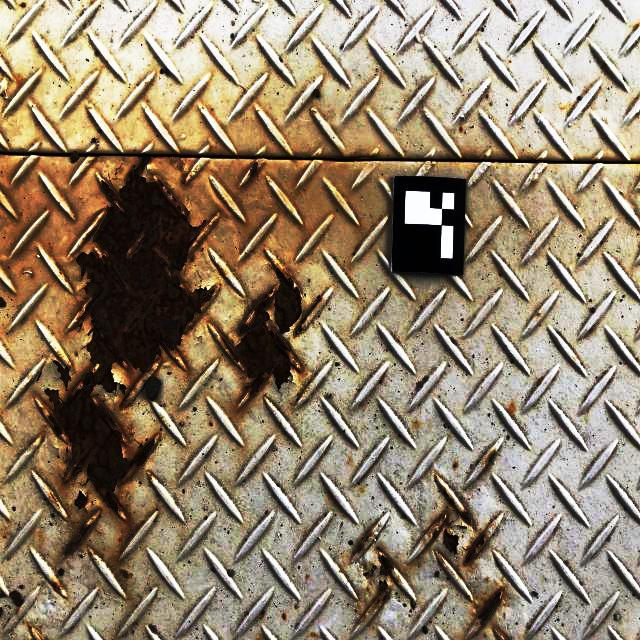Corrosion: (34, 157, 214, 561), (223, 250, 321, 413), (431, 487, 473, 558), (365, 551, 397, 605), (477, 585, 505, 627), (464, 530, 489, 567), (352, 530, 373, 557), (362, 563, 378, 579), (48, 492, 62, 510), (249, 161, 260, 179), (50, 579, 64, 591), (488, 451, 497, 466), (122, 569, 130, 579)
